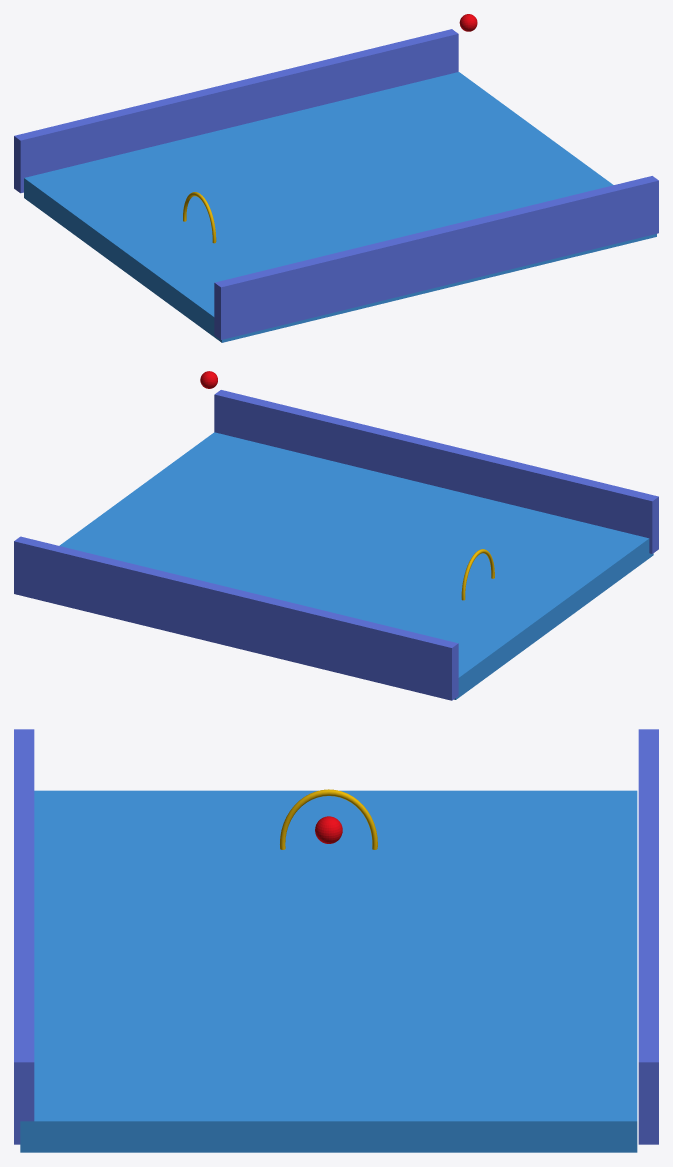
The model's file is stage1.fbx.
The picture shows the model from 3 angles, top to bottom: view 1: azimuth 30°, elevation 25°; view 2: azimuth 150°, elevation 25°; view 3: azimuth 270°, elevation 25°; orthographic projection. The views are drawn at different scales.
Visible parts, largest first — view 1: Cube.002; view 2: Cube.002; view 3: Cube.002, Sphere.
Part boxes in pixels (x1=…): Cube.002: x1=14, y1=29, x2=658, y2=342; Cube.002: x1=14, y1=390, x2=658, y2=700; Cube.002: x1=14, y1=729, x2=658, y2=1152; Sphere: x1=315, y1=816, x2=342, y2=843.
Bounding box in the file's own units: 0.1702 × 0.0681 × 0.1393.
